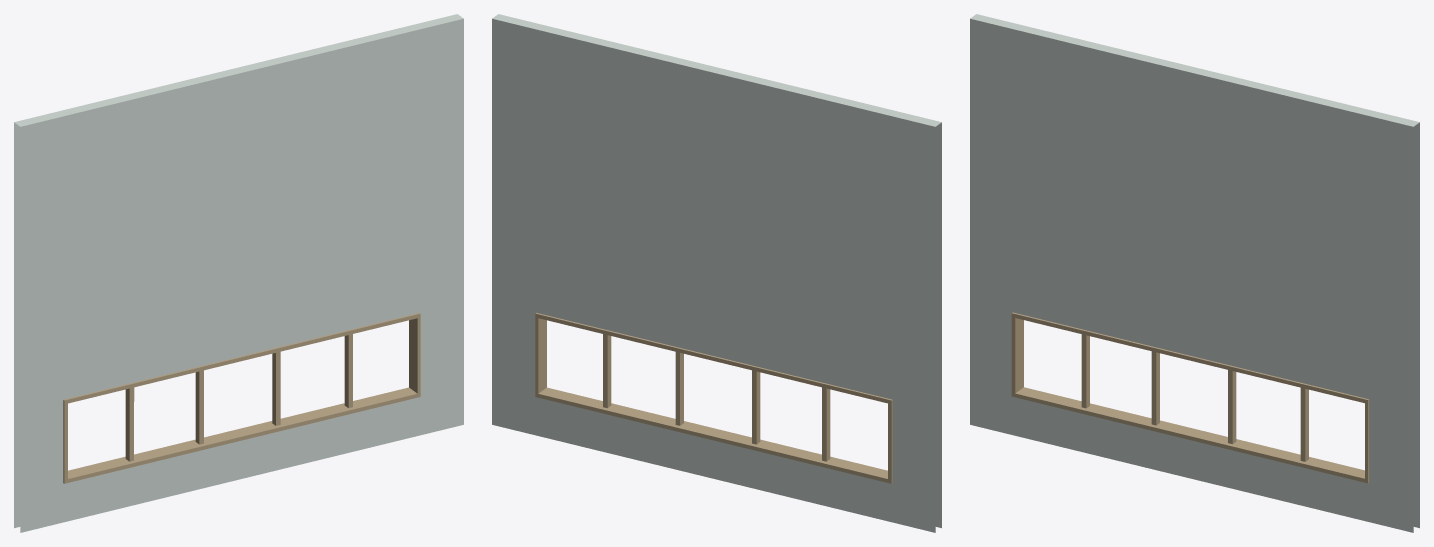
File: SM_Wall_Outer_Window_A_800.fbx
3 renders of one model, left to right at view 1: azimuth 30°, elevation 25°; view 2: azimuth 150°, elevation 25°; view 3: azimuth 330°, elevation 25°, orthographic.
Visible parts, largest first — view 1: SM_Wall_Outer_Window_A_800; view 2: SM_Wall_Outer_Window_A_800; view 3: SM_Wall_Outer_Window_A_800.
Boxes of the visible parts, bbox=[...] form: SM_Wall_Outer_Window_A_800: bbox=[14, 14, 463, 532]; SM_Wall_Outer_Window_A_800: bbox=[492, 14, 941, 532]; SM_Wall_Outer_Window_A_800: bbox=[970, 14, 1419, 532].
Size of the model in its own units: 800 by 700 by 27.27.
